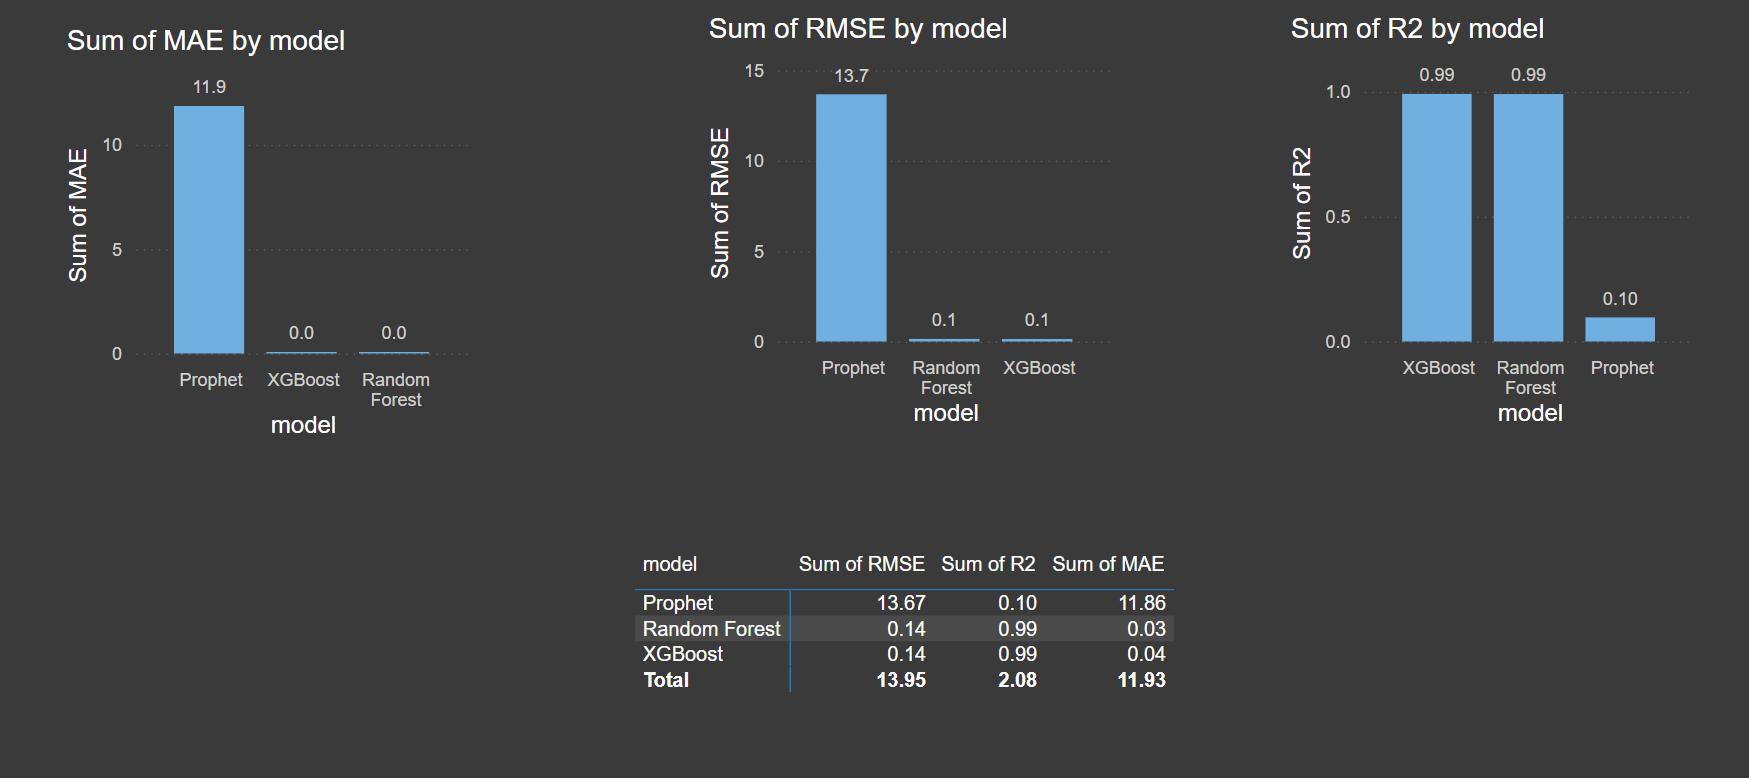

What the dashboard file says about the page in this screenshot:
{"tool":"powerbi","page":{"name":"ML Model Comparison","canvas":[1280,720],"ordinal":2},"visuals":[{"type":"clusteredColumnChart","fields":{"Category":["model_results.model"],"Y":["Sum(model_results.MAE)"]},"box":[64.8,22.6,279.5,280.3],"z":0},{"type":"clusteredColumnChart","fields":{"Category":["model_results.model"],"Y":["Sum(model_results.RMSE)"]},"box":[492.8,14.6,280.3,280.3],"z":1},{"type":"clusteredColumnChart","fields":{"Category":["model_results.model"],"Y":["Sum(model_results.R2)"]},"box":[880.8,15.3,280.3,279.5],"z":2},{"type":"pivotTable","fields":{"Rows":["model_results.model"],"Values":["Sum(model_results.RMSE)","Sum(model_results.R2)","Sum(model_results.MAE)"]},"box":[444.1,369.1,390.9,136.1],"z":3}]}

Visuals, with their boxes on the page's 1280x720 design canvas (x1, y1, x2, y2). These are canvas units, not pixel positions in the 1749x778 screenshot, which may show the page scaled, cropped or inside an application window:
clusteredColumnChart - model_results.model x Sum(model_results.MAE): region(65, 23, 344, 303)
clusteredColumnChart - model_results.model x Sum(model_results.RMSE): region(493, 15, 773, 295)
clusteredColumnChart - model_results.model x Sum(model_results.R2): region(881, 15, 1161, 295)
pivotTable - model_results.model x Sum(model_results.RMSE): region(444, 369, 835, 505)
